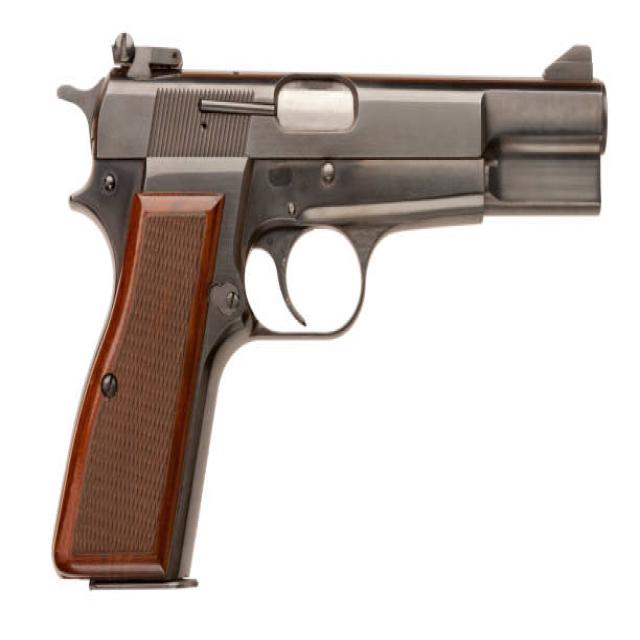pistol: (48, 34, 617, 605)
